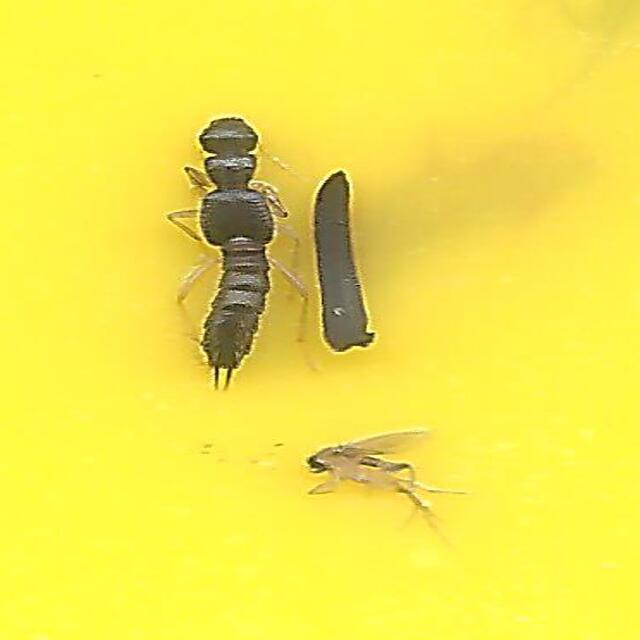Brachycera: (305, 428, 468, 527)
Coleoptera: (172, 113, 310, 391)
